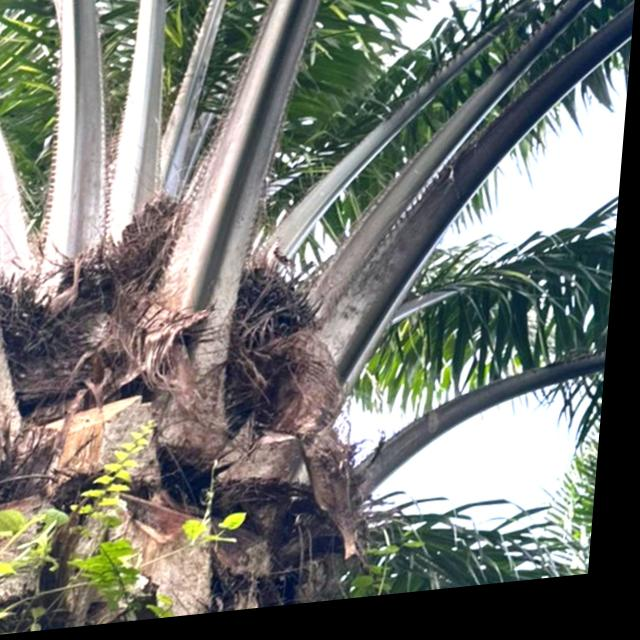unripe: (229, 251, 342, 376)
